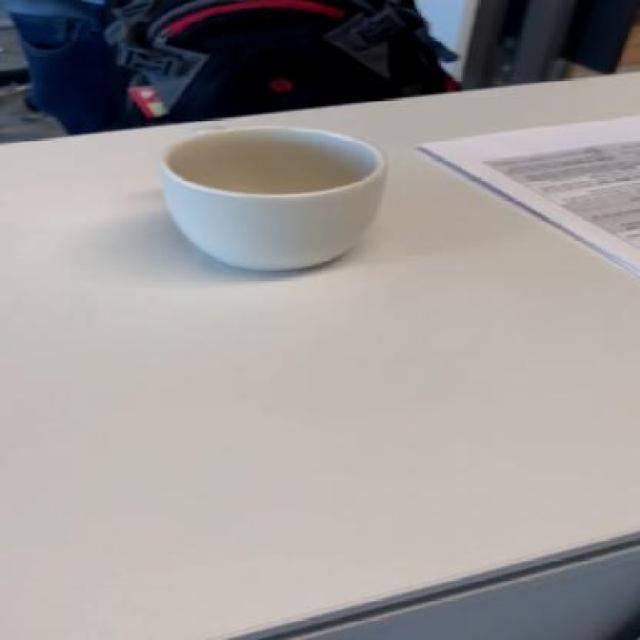cup: (160, 124, 386, 273)
